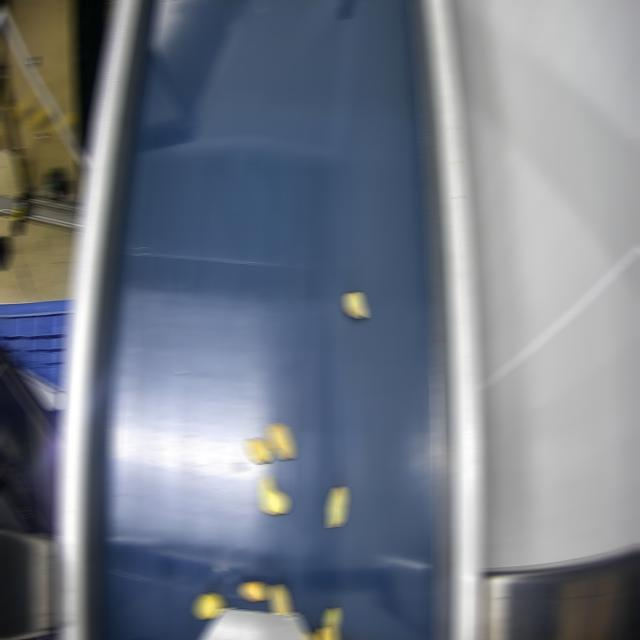Baby Potato: (260, 476, 287, 514), (266, 423, 293, 459), (195, 592, 222, 619), (328, 486, 345, 527), (246, 438, 271, 463), (344, 292, 365, 319), (270, 585, 289, 614), (240, 581, 267, 601), (325, 607, 338, 639), (316, 627, 327, 639), (304, 633, 314, 639)
